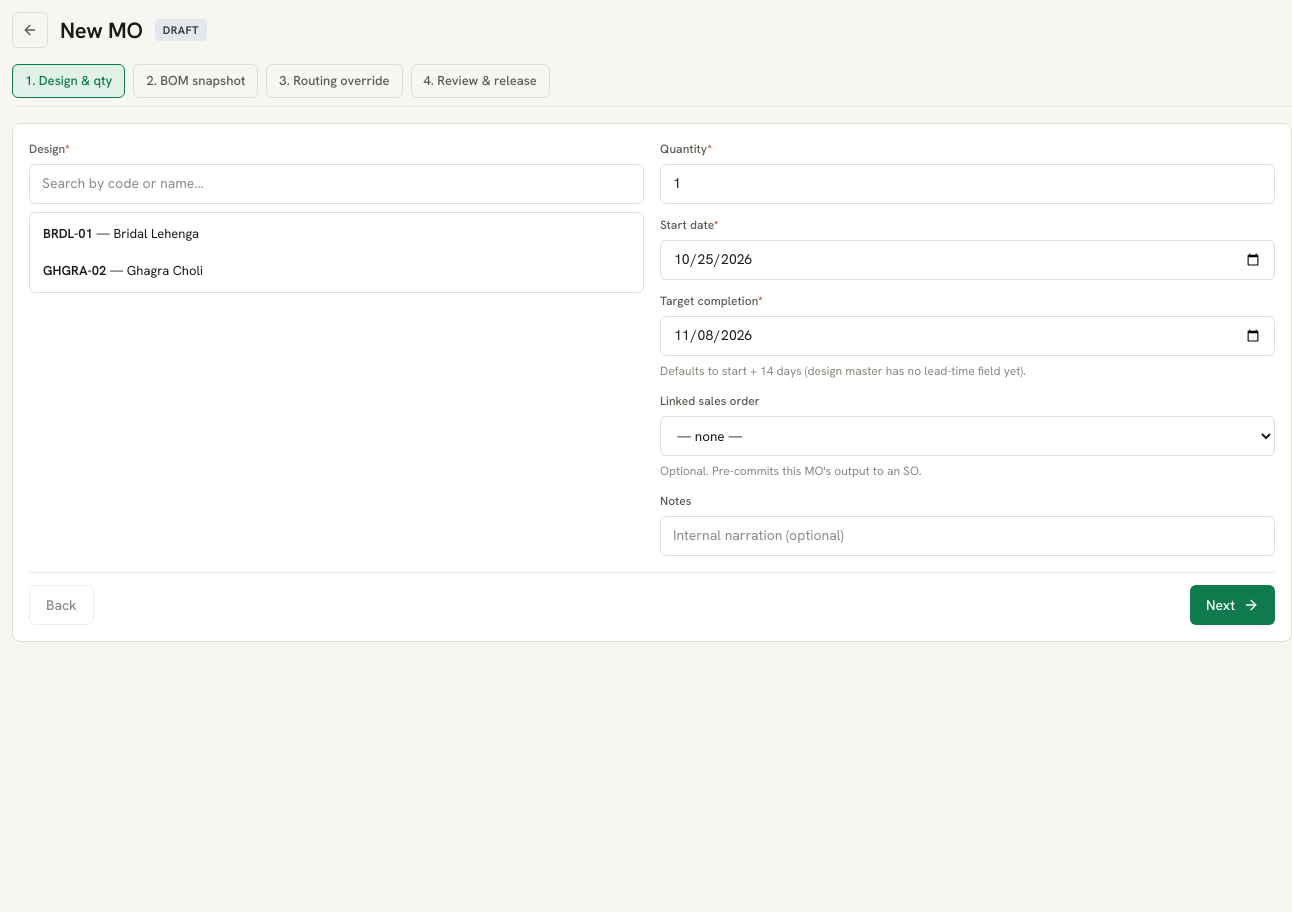
MoCreateWizard — Section 1 (design & qty) › filters the design list by typeahead query
Expected: the option "BRDL-01 — Bridal Lehenga" is shown, [34,216,639,250]
Expected: the option "GHGRA-02 — Ghagra Choli" is shown, [34,254,639,288]
Step 1. Type "ghagra" into the field named "search design" → (336, 184), box [30,173,643,194]
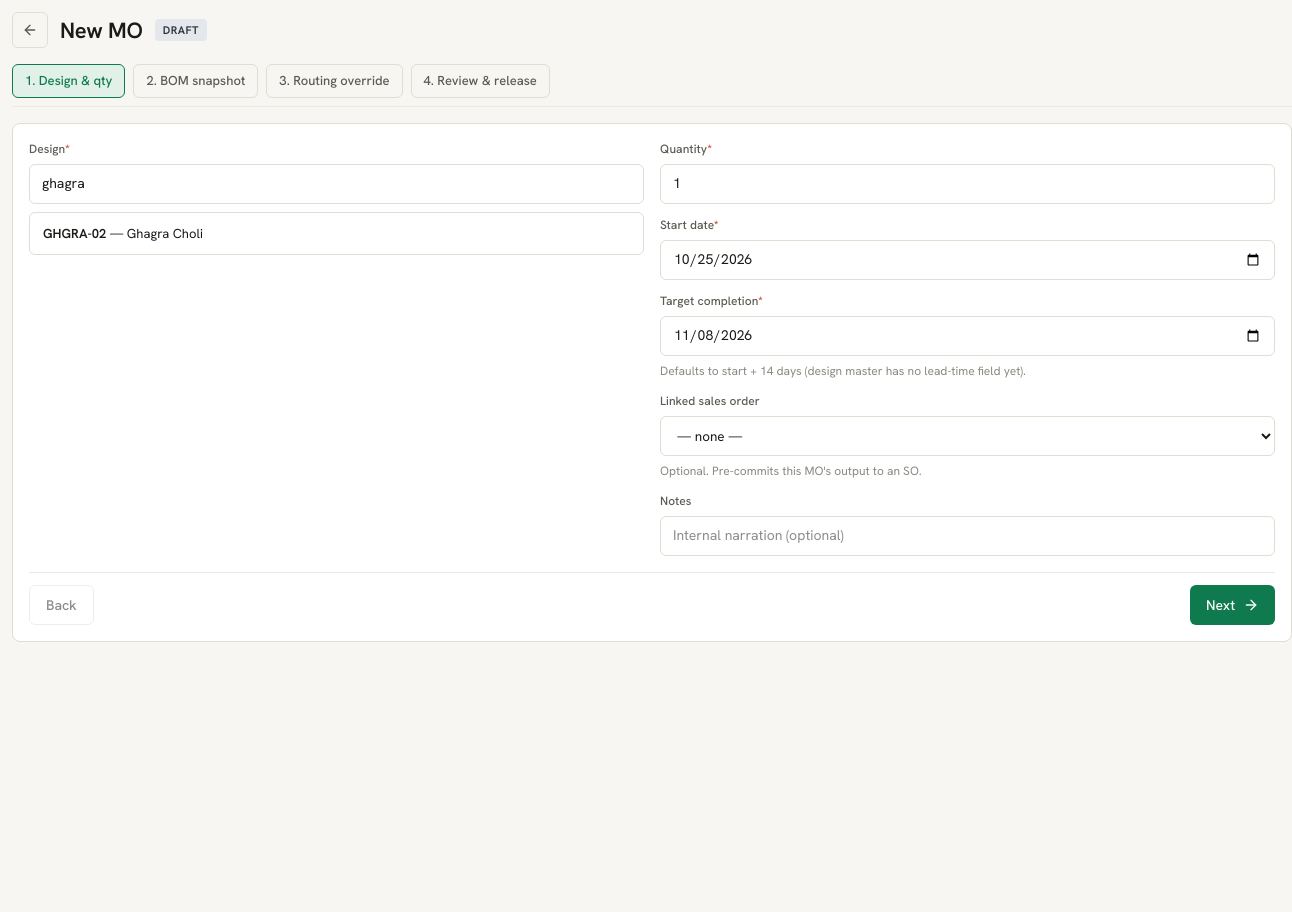
Expected: the option "GHGRA-02 — Ghagra Choli" is shown, [34,216,639,250]
Result: the option "BRDL-01" is gone
